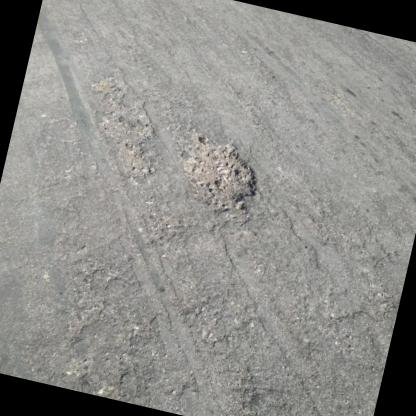pothole: (69, 74, 174, 186), (166, 126, 269, 221)
